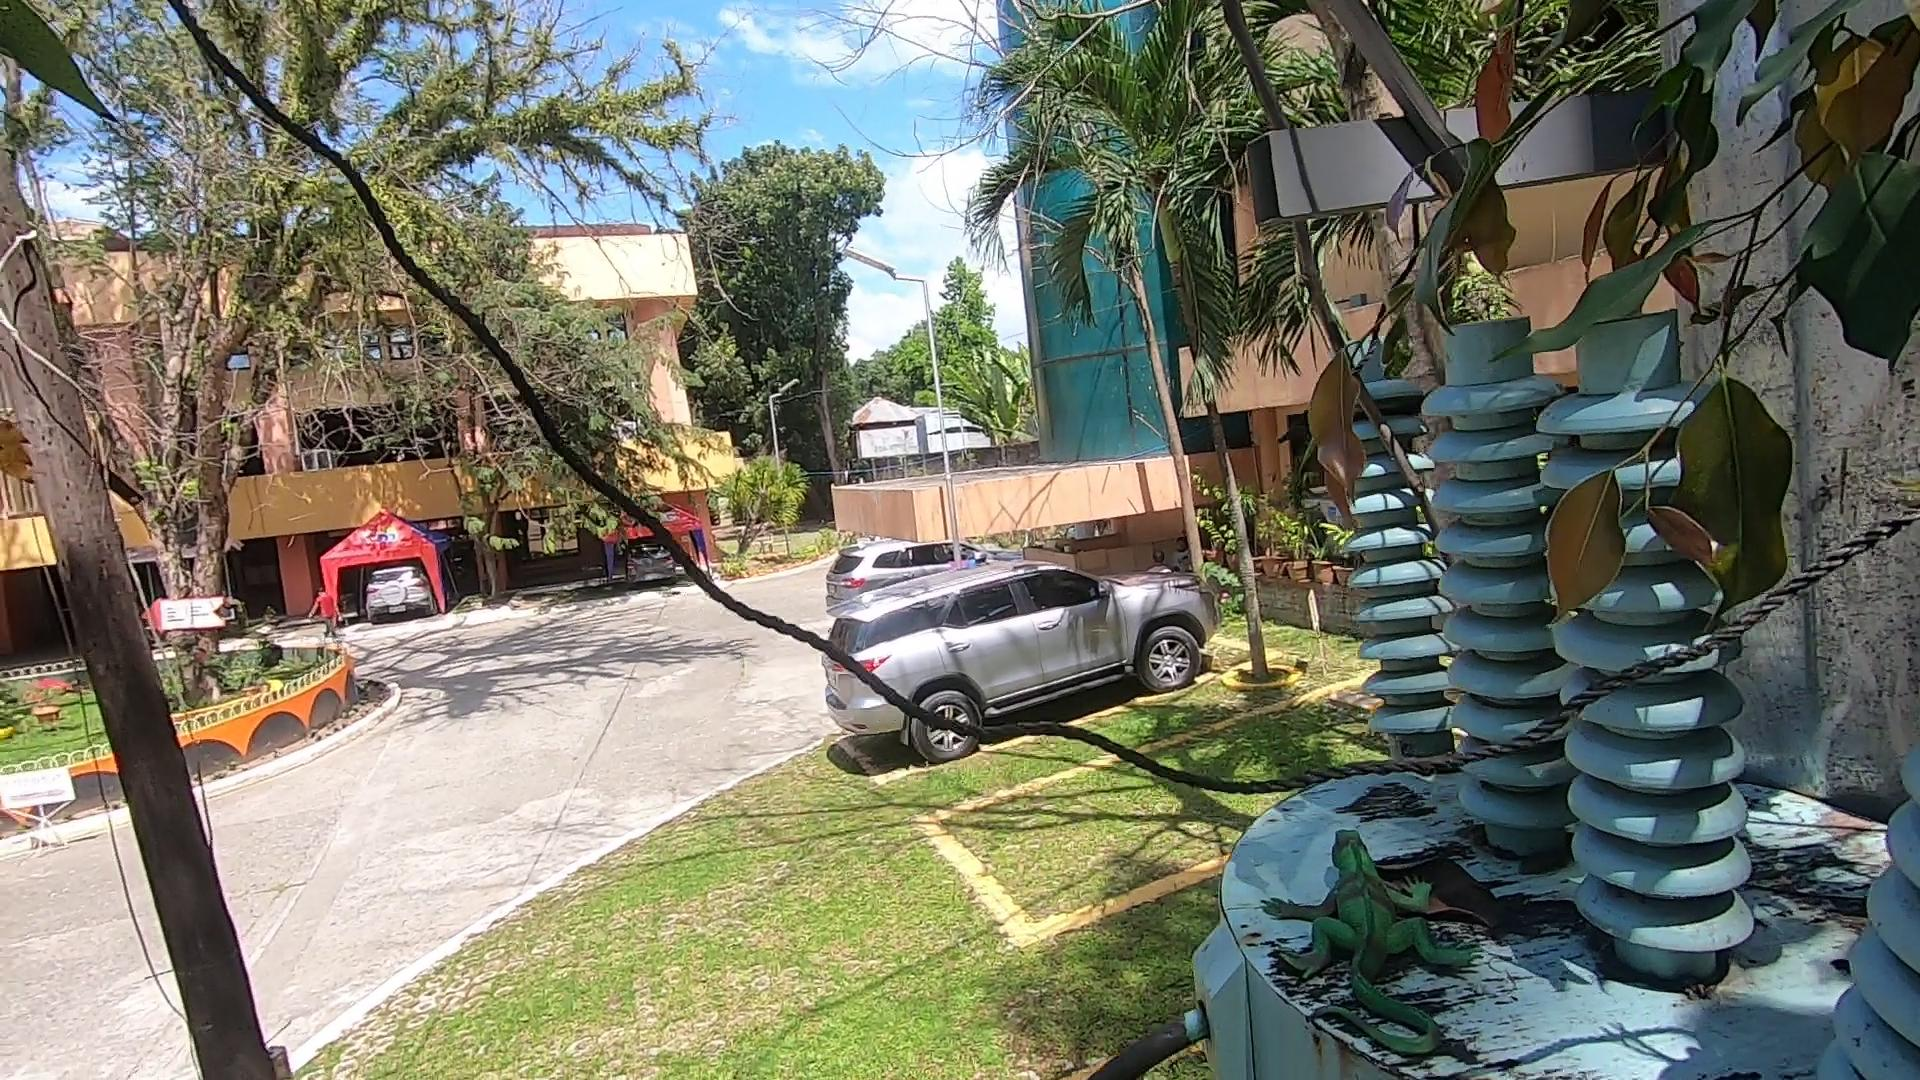branch with leaves: (1251, 25, 1920, 640)
tree branch: (1207, 11, 1465, 550)
